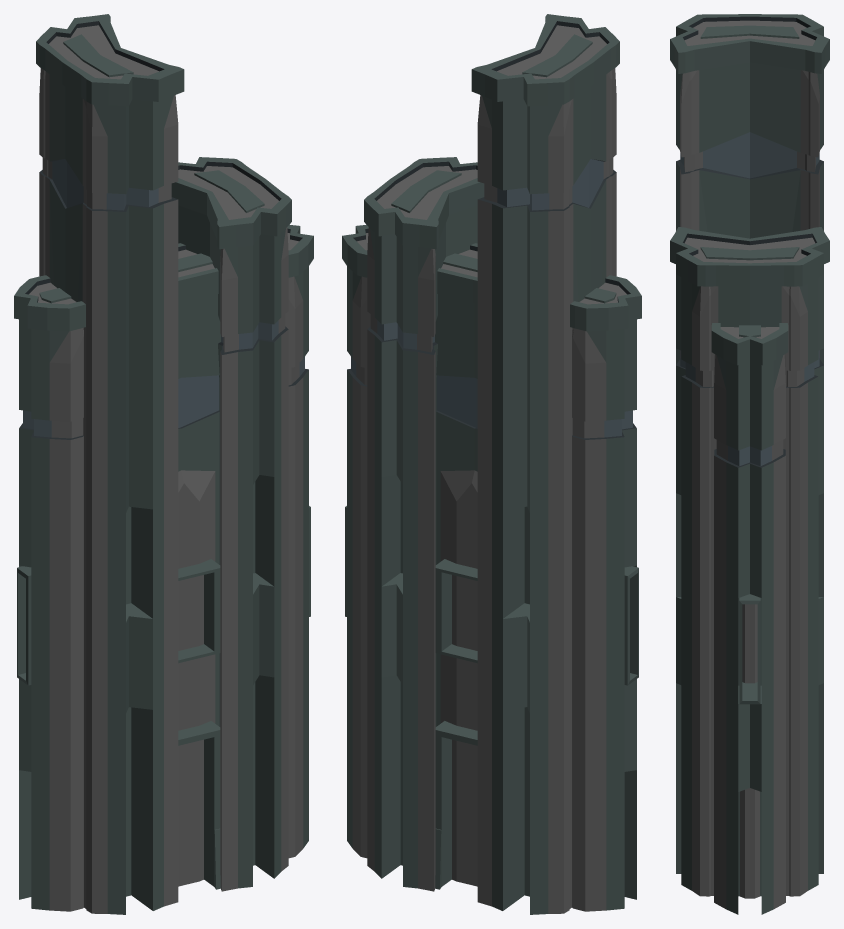
The model's file is building_37.fbx.
3 renders of one model, left to right at view 1: azimuth 30°, elevation 25°; view 2: azimuth 150°, elevation 25°; view 3: azimuth 270°, elevation 25°, orthographic. The views are drawn at different scales.
Parts seen in each view (by area): view 1: building_37; view 2: building_37; view 3: building_37.
Boxes of the visible parts, x1,y1,x2,y2 form: building_37: [14, 14, 313, 914]; building_37: [342, 14, 641, 914]; building_37: [670, 14, 829, 914].
Size of the model in its own units: 1464 by 4069 by 746.
